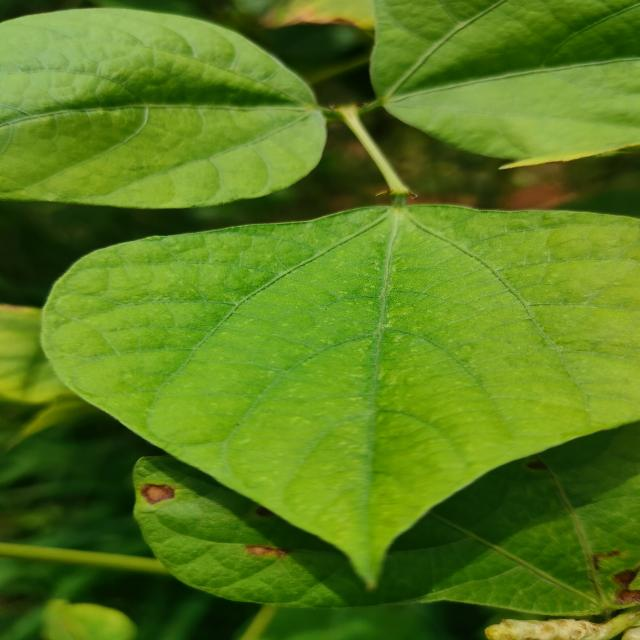Dolicos bean_healthy: (43, 205, 640, 596), (0, 0, 330, 206), (366, 0, 640, 166)
